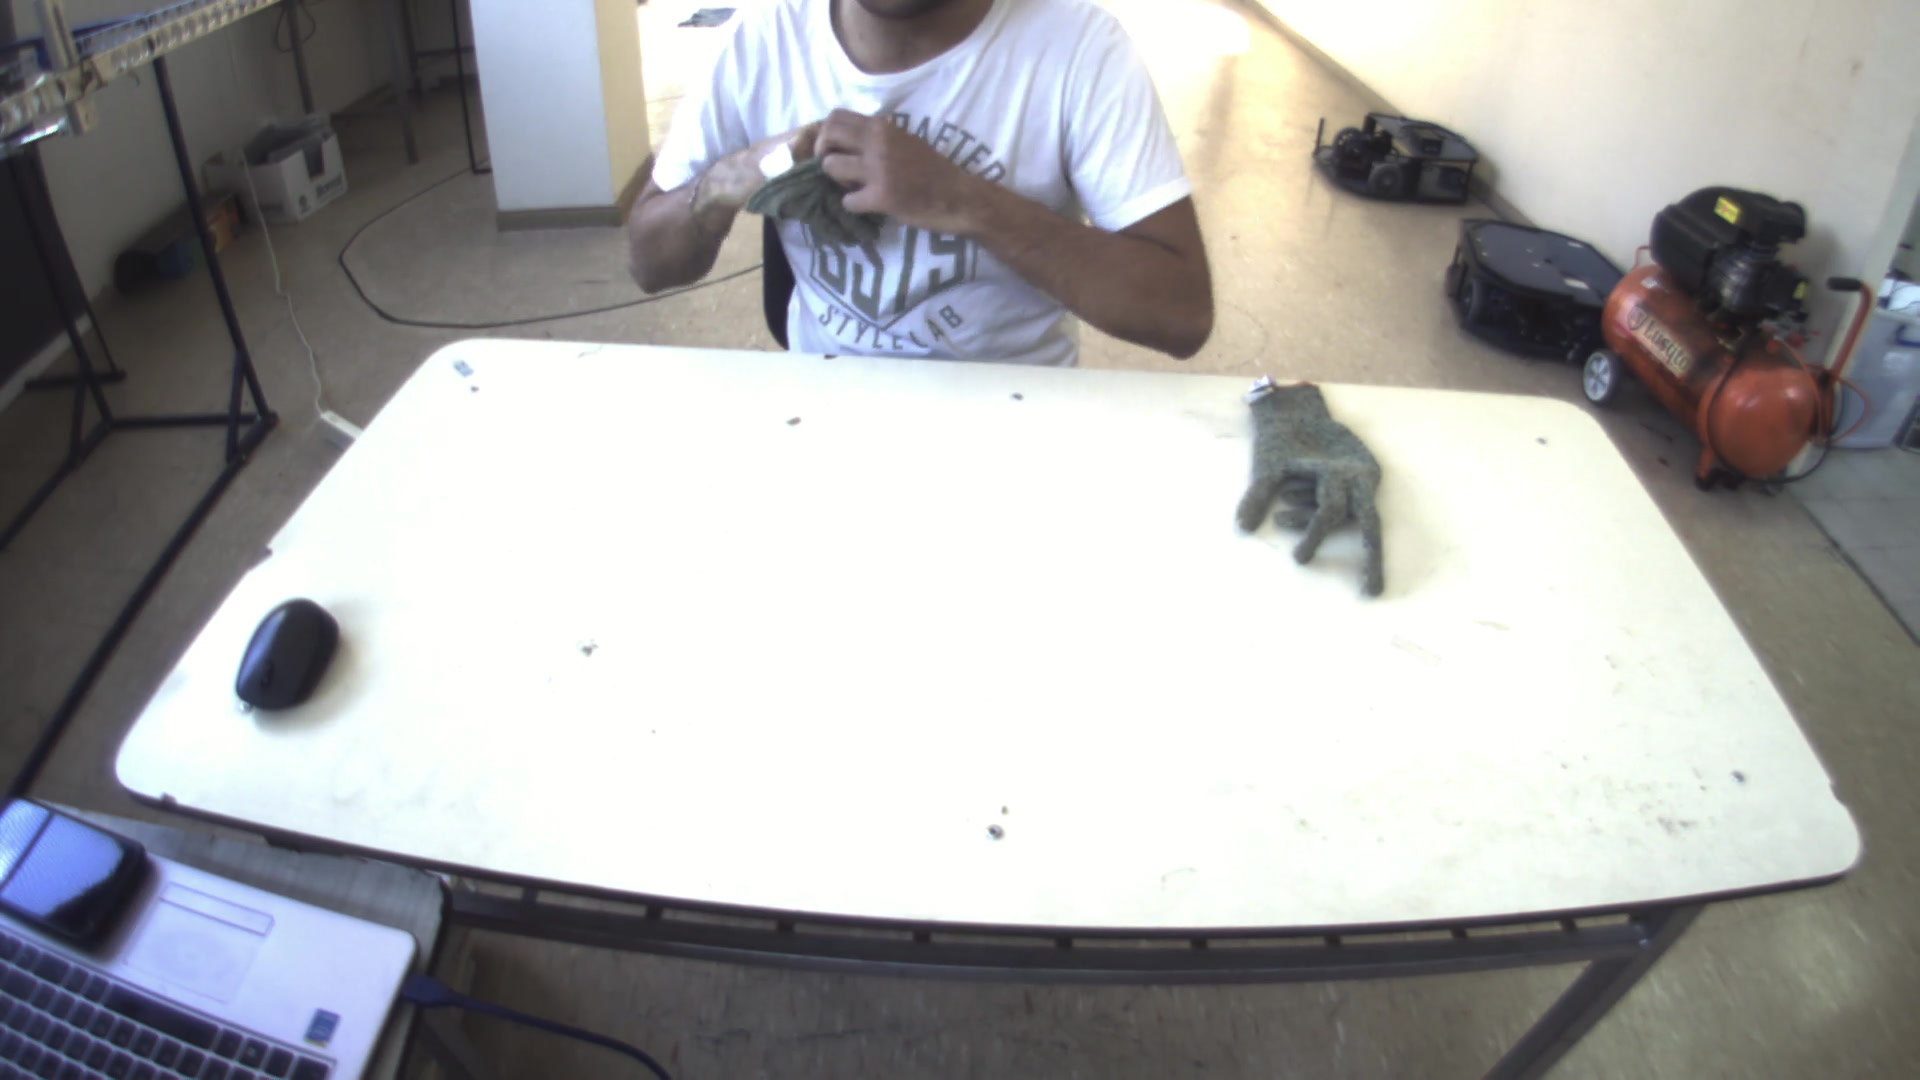hand: (814, 103, 972, 233)
